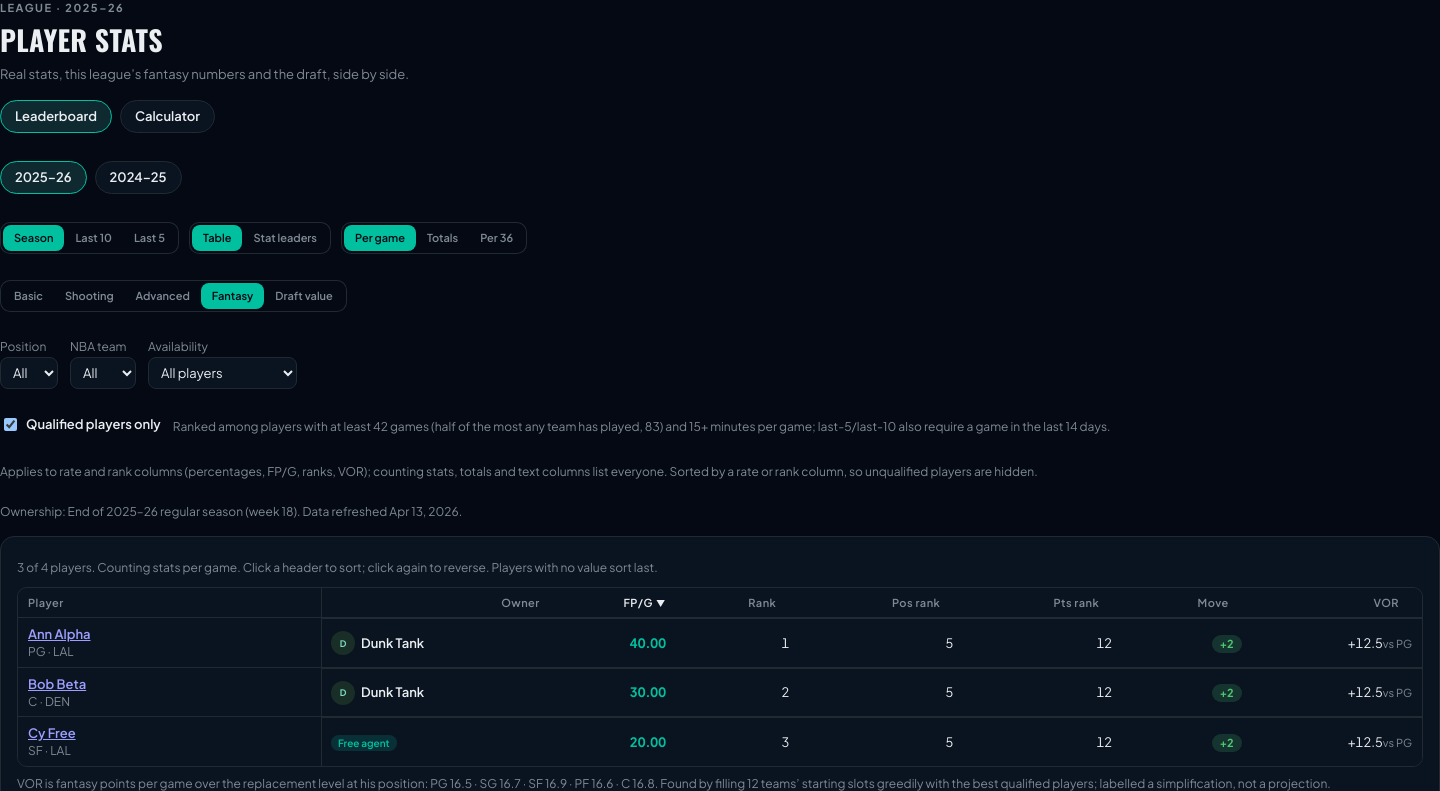
Scenario: StatLeaderboard › draft columns › names the ADP source and capture date, and prints the value
What coordinates should you click on to do the following:
click the button "Draft value"
I would click on:
 (304, 296)
Its box is [264,283,344,309].
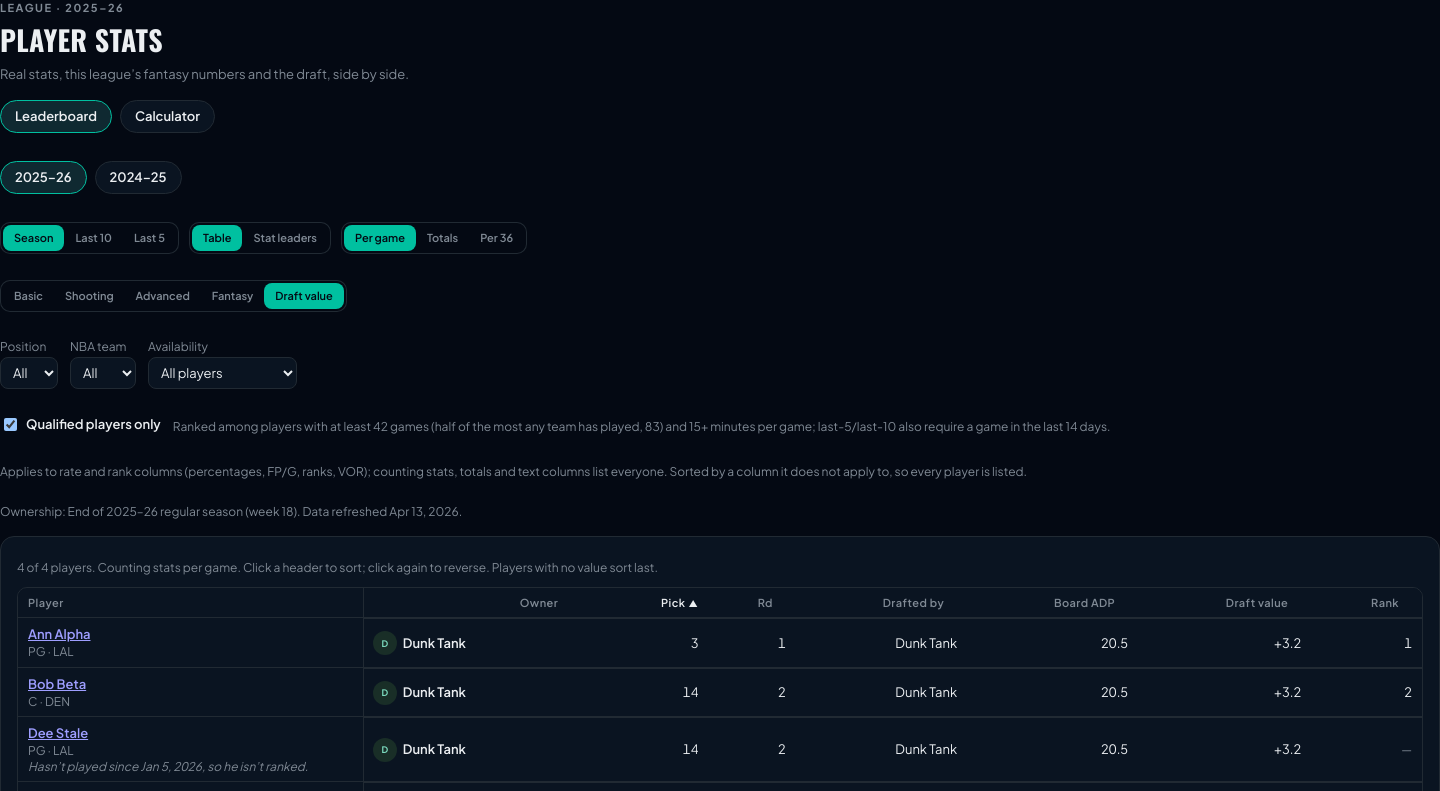
Check: the text "20.5" in the row of "Ann Alpha" is shown, box [1101,635,1128,651]
